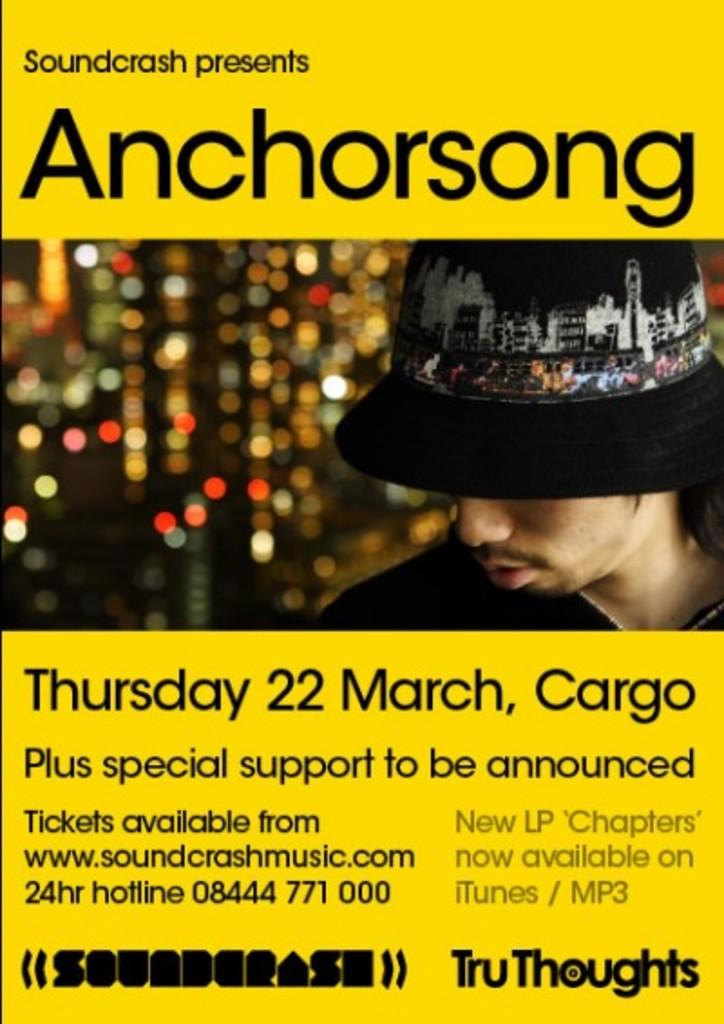Hat: (330, 239, 721, 503)
